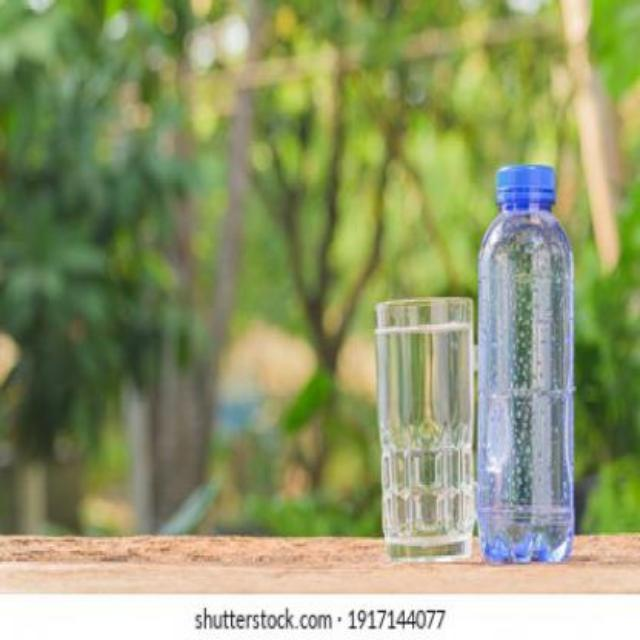bottle: (465, 154, 585, 576)
